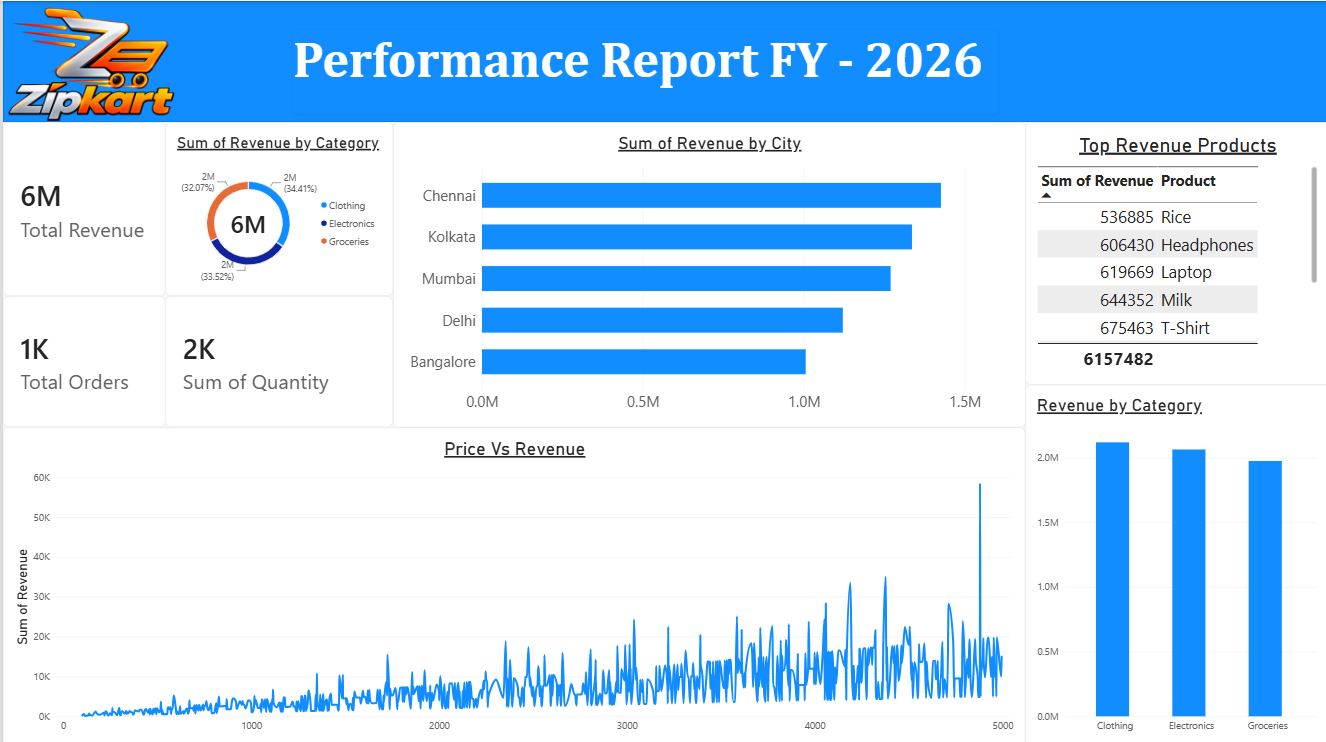

This screenshot's page, from the dashboard's own definition file:
{"tool":"powerbi","page":{"name":"Report1","canvas":[1920,1080],"ordinal":0},"visuals":[{"type":"shape","box":[0,0,1920.1,175.5],"z":0},{"type":"textbox","box":[419.8,41.6,1020.9,121.4],"z":1000},{"type":"image","box":[0,0,257,175.5],"z":2000},{"type":"cardVisual","fields":{"Data":["Sum(zipkart_ecommerce_data.Revenue)"]},"box":[0,175.5,235.3,251.5],"z":3000},{"type":"lineChart","title":"Price Vs Revenue","fields":{"Y":["Sum(zipkart_ecommerce_data.Revenue)"],"Category":["zipkart_ecommerce_data.Price"]},"box":[0,617.1,1480.3,463.3],"z":4000},{"type":"columnChart","title":"Revenue by Category","fields":{"Category":["zipkart_ecommerce_data.Category"],"Y":["Sum(zipkart_ecommerce_data.Revenue)"]},"box":[1480.3,555.6,439.7,524.8],"z":5000},{"type":"tableEx","title":"Top Revenue Products","fields":{"Values":["Sum(zipkart_ecommerce_data.Revenue)","zipkart_ecommerce_data.Product"]},"box":[1480.3,175.5,439.7,380],"z":6000},{"type":"cardVisual","fields":{"Data":["CountNonNull(zipkart_ecommerce_data.OrderID)"]},"box":[0,427.1,235.3,190],"z":7000},{"type":"cardVisual","fields":{"Data":["Sum(zipkart_ecommerce_data.Quantity)"]},"box":[235.3,427.1,329.4,190],"z":8000},{"type":"clusteredBarChart","fields":{"Category":["zipkart_ecommerce_data.City"],"Y":["Sum(zipkart_ecommerce_data.Revenue)"]},"box":[564.6,175.5,915.7,441.6],"z":9000},{"type":"donutChart","fields":{"Category":["zipkart_ecommerce_data.Category"],"Y":["Sum(zipkart_ecommerce_data.Revenue)"]},"box":[235.3,175.5,329.4,251.5],"z":10000}]}

Visuals, with their boxes in screenshot pixels (x1, y1, x2, y2), scaled from the page's 1920x1080 canvas onto the 1326x742 screenshot:
shape: [x1=0, y1=0, x2=1325, y2=121]
textbox: [x1=290, y1=29, x2=995, y2=112]
image: [x1=0, y1=0, x2=177, y2=121]
cardVisual - Sum(zipkart_ecommerce_data.Revenue): [x1=0, y1=121, x2=163, y2=293]
"Price Vs Revenue" lineChart: [x1=0, y1=424, x2=1022, y2=741]
"Revenue by Category" columnChart: [x1=1022, y1=382, x2=1325, y2=741]
"Top Revenue Products" tableEx: [x1=1022, y1=121, x2=1325, y2=382]
cardVisual - CountNonNull(zipkart_ecommerce_data.OrderID): [x1=0, y1=293, x2=163, y2=424]
cardVisual - Sum(zipkart_ecommerce_data.Quantity): [x1=163, y1=293, x2=390, y2=424]
clusteredBarChart - zipkart_ecommerce_data.City x Sum(zipkart_ecommerce_data.Revenue): [x1=390, y1=121, x2=1022, y2=424]
donutChart - zipkart_ecommerce_data.Category x Sum(zipkart_ecommerce_data.Revenue): [x1=163, y1=121, x2=390, y2=293]
